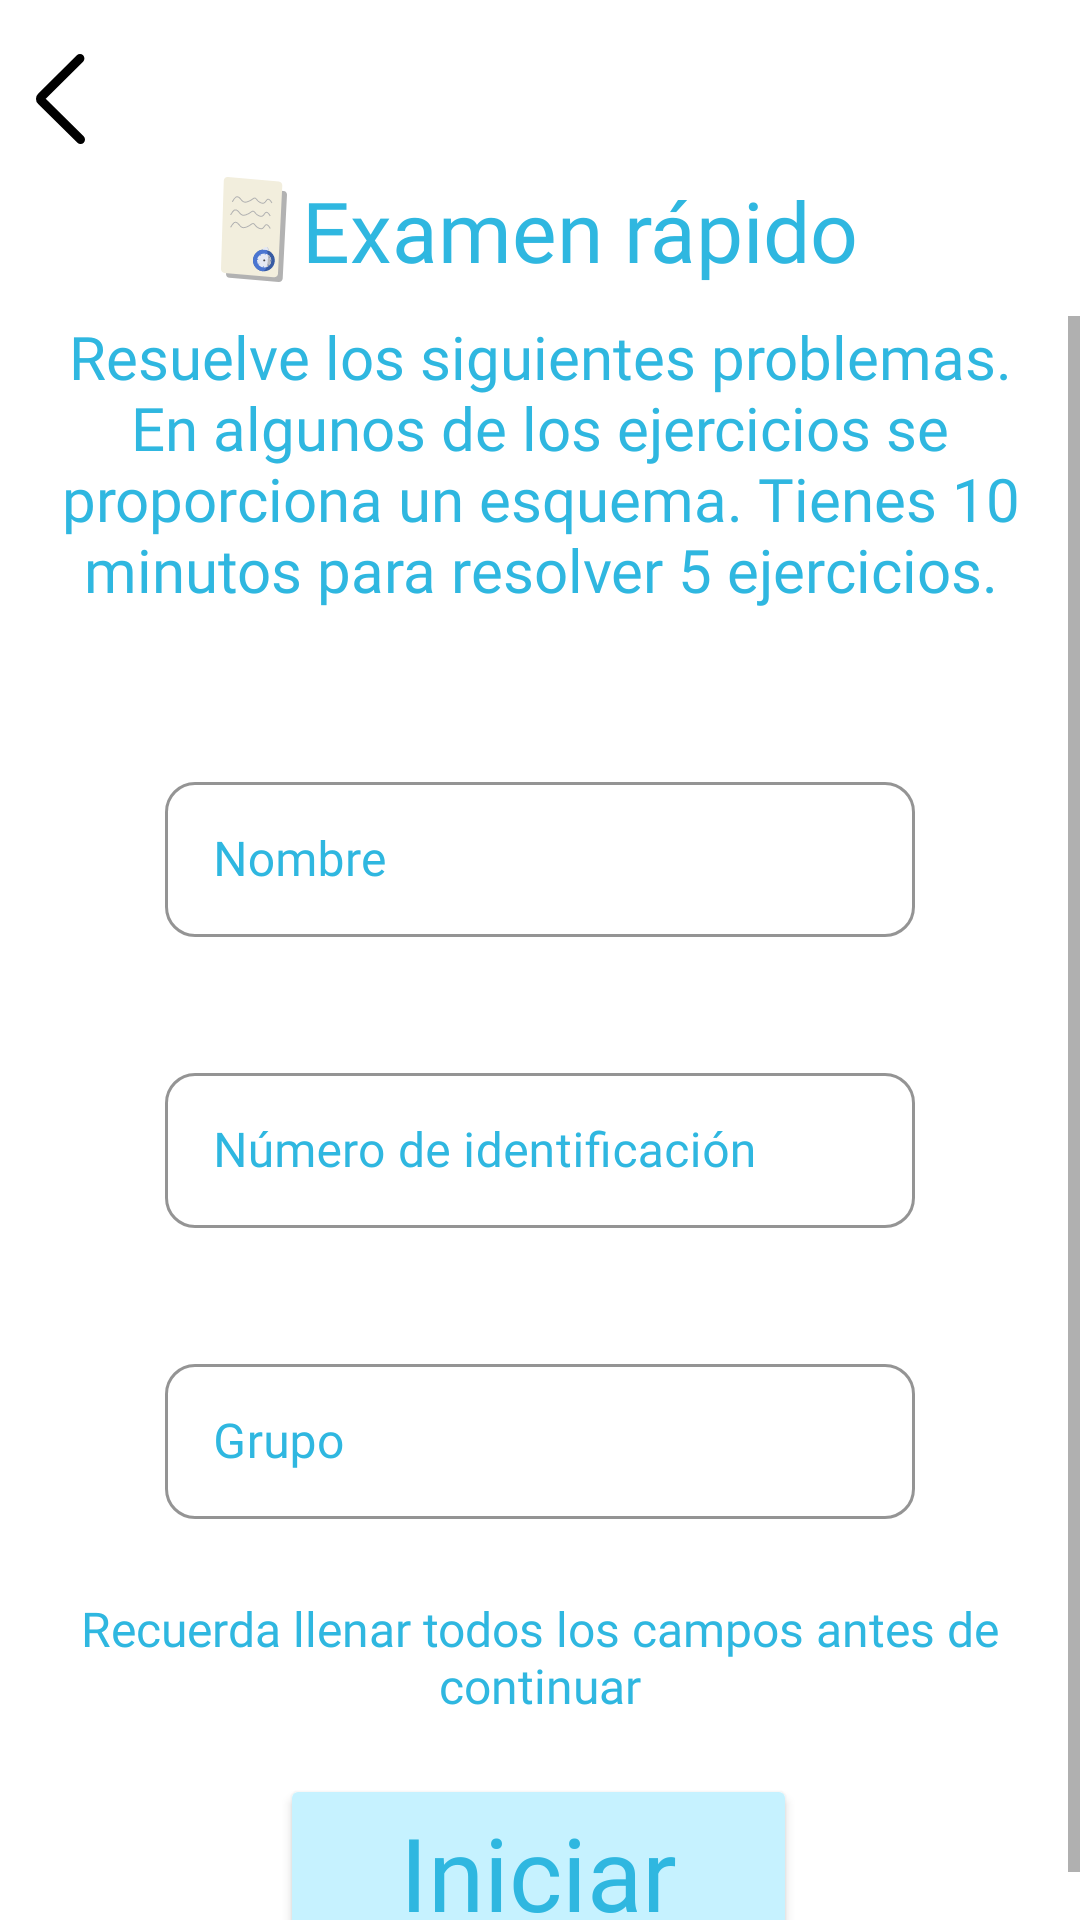

Icon bounding boxes for this 1080 x 1920 phone screenshot, format detection(x1, y1, x2, y2):
back: detection(36, 54, 85, 144)
examen rapido mini: detection(221, 177, 287, 282)
